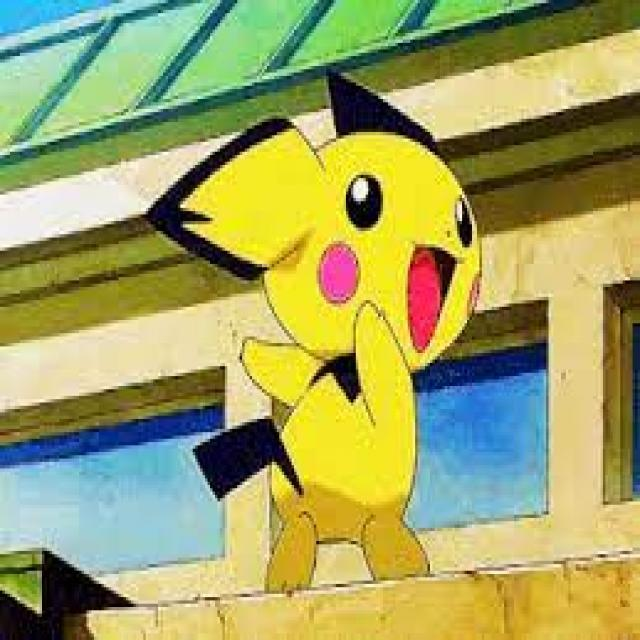pichu: (165, 66, 482, 556)
